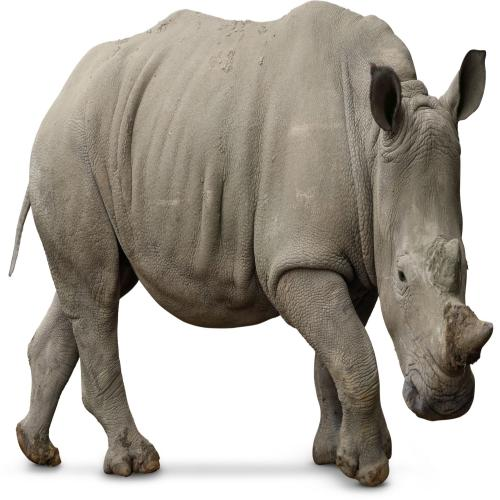rhino-endangered: (17, 12, 494, 475)
